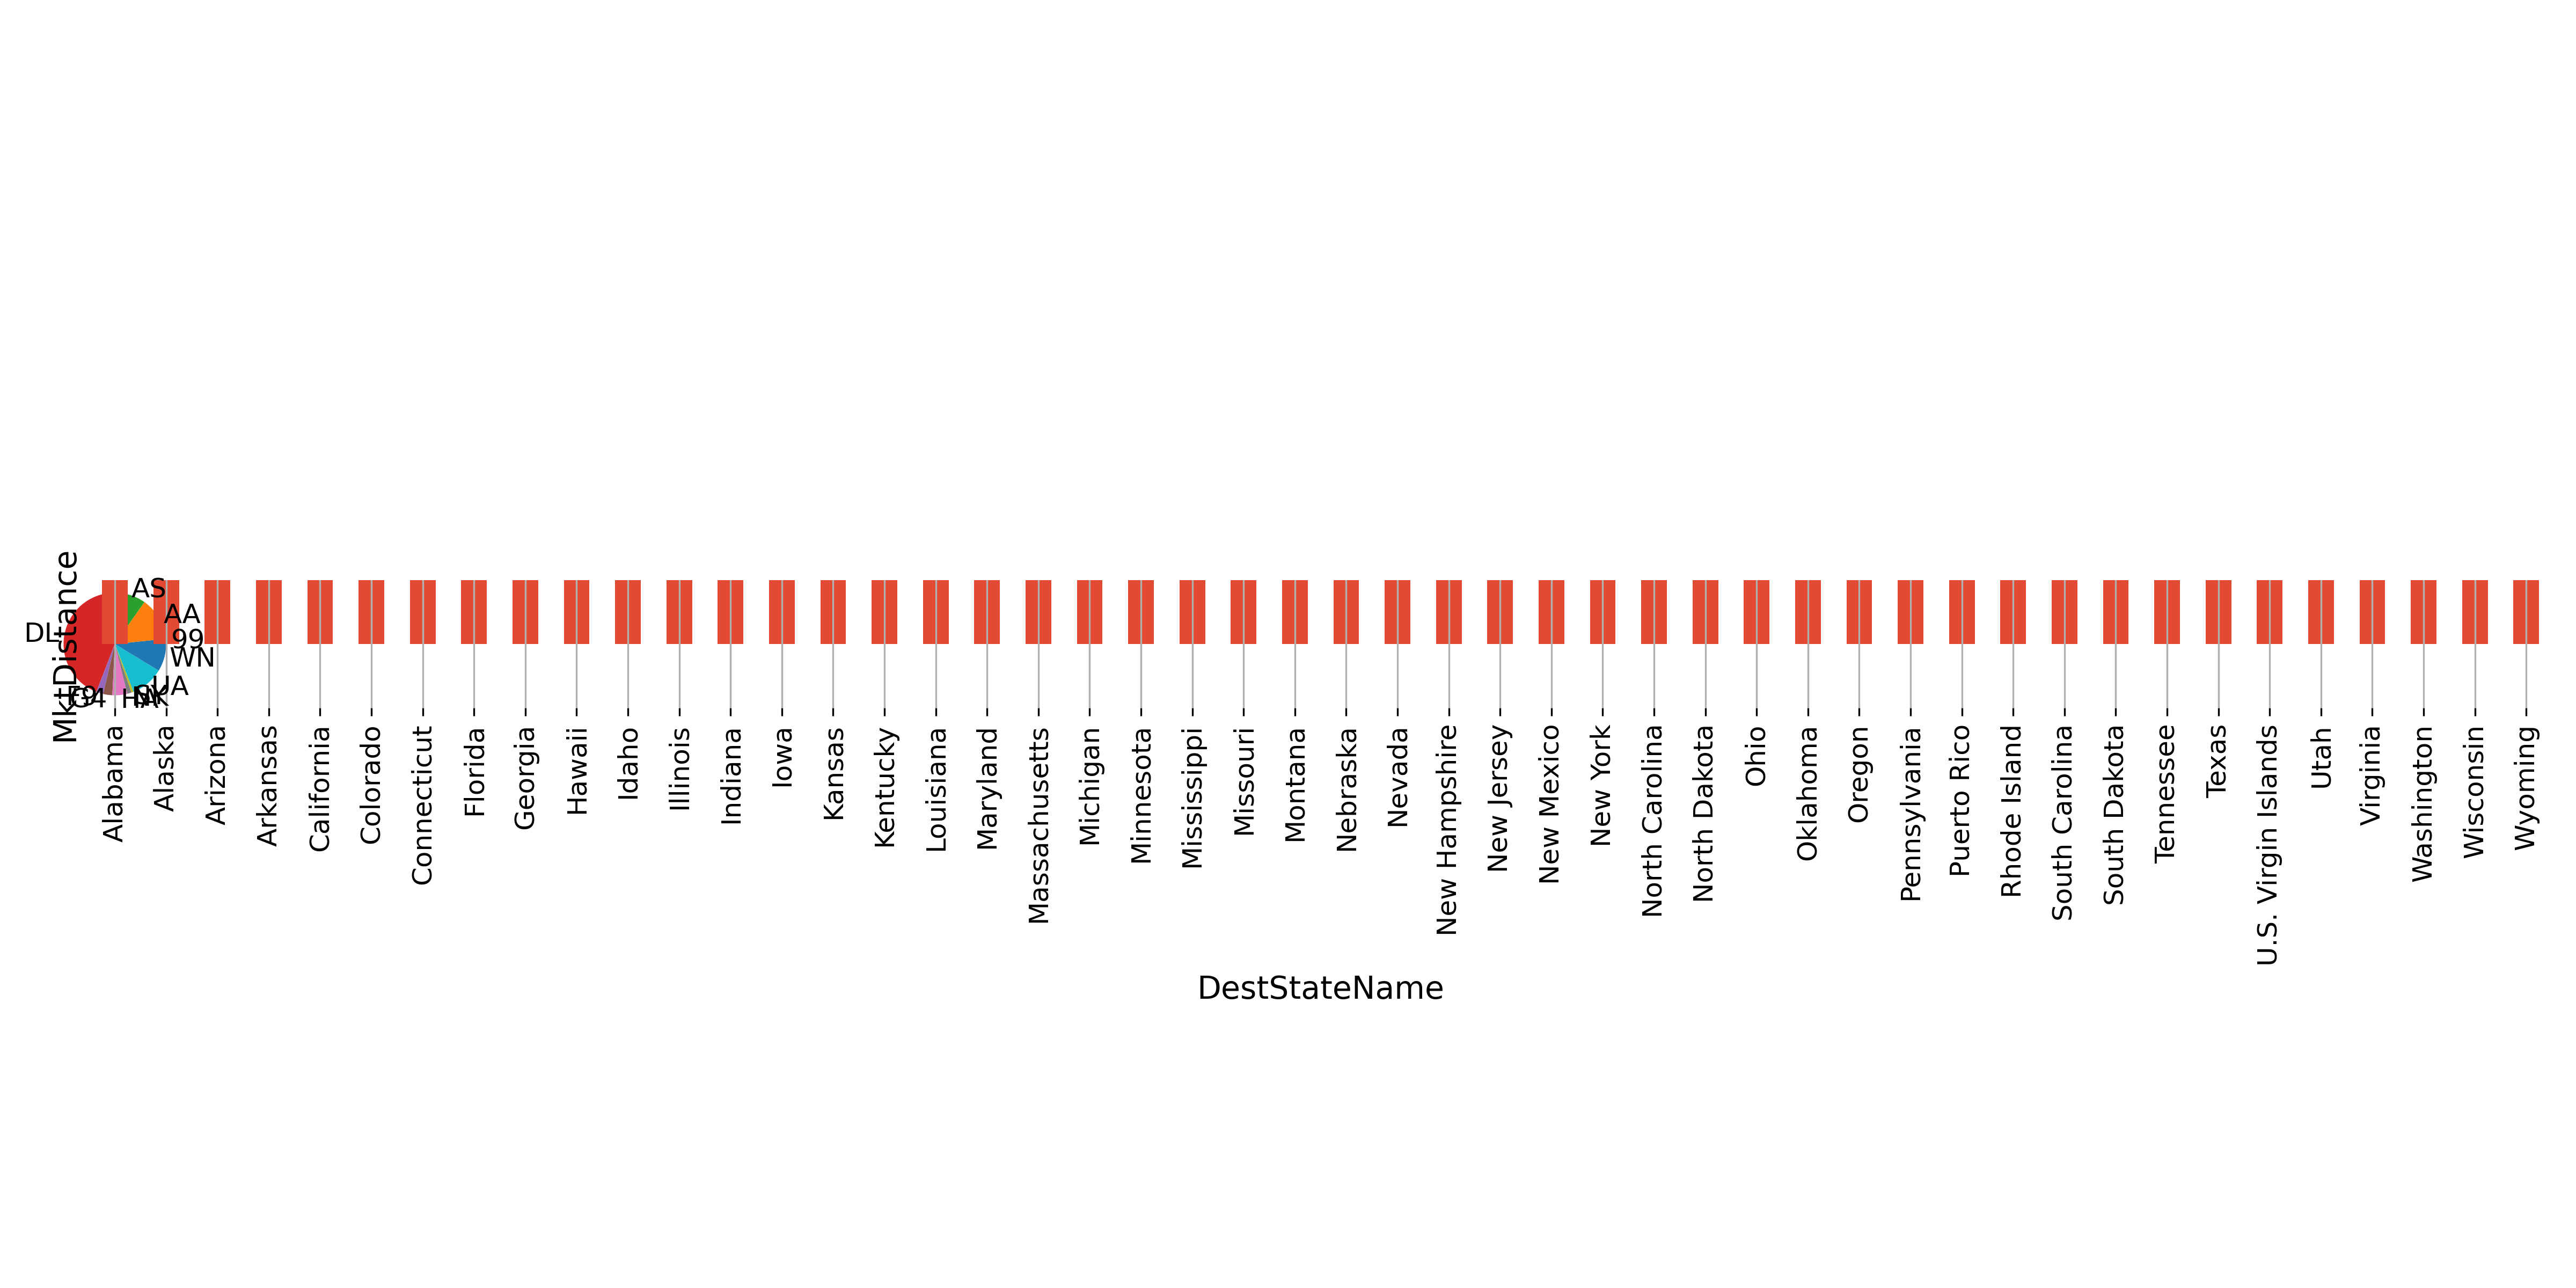

Layout of this report page (visuals, bound fields, positions):
{"tool":"tableau","page":{"name":"Dashboard 1","canvas":[1000,800],"ordinal":0},"visuals":[{"type":"worksheet","title":"Sheet 2","mark":"Bar","rows":["starts"],"cols":["series","video"],"box":[8,8,824,784]},{"type":"legend","title":"Sheet 2","param":"[federated.1ba581w0fut9cy1agwn9m0ymgelp].[none:site_type:nk]","box":[832,8,160,107]}]}

Visuals, with their boxes on the page's 1000x800 design canvas (x1, y1, x2, y2). These are canvas units, not pixel positions in the 2576x1288 screenshot, which may show the page scaled, cropped or inside an application window:
"Sheet 2" worksheet (Bar marks): 8, 8, 832, 792
"Sheet 2" legend: 832, 8, 992, 115
